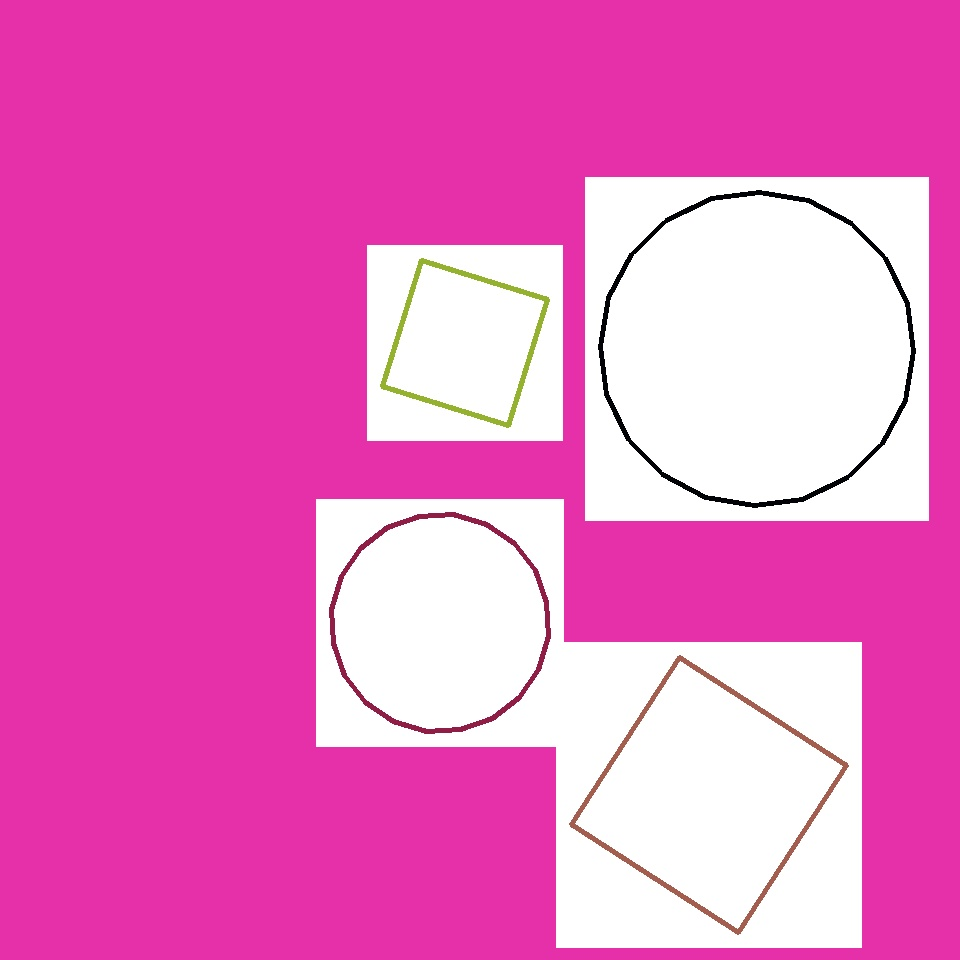circle: (183, 136, 343, 292)
square: (572, 658, 846, 932), (485, 106, 712, 334), (382, 260, 548, 426), (142, 236, 284, 378), (402, 582, 532, 714)
triangle: (600, 192, 914, 506), (459, 509, 704, 754), (331, 514, 548, 732)
